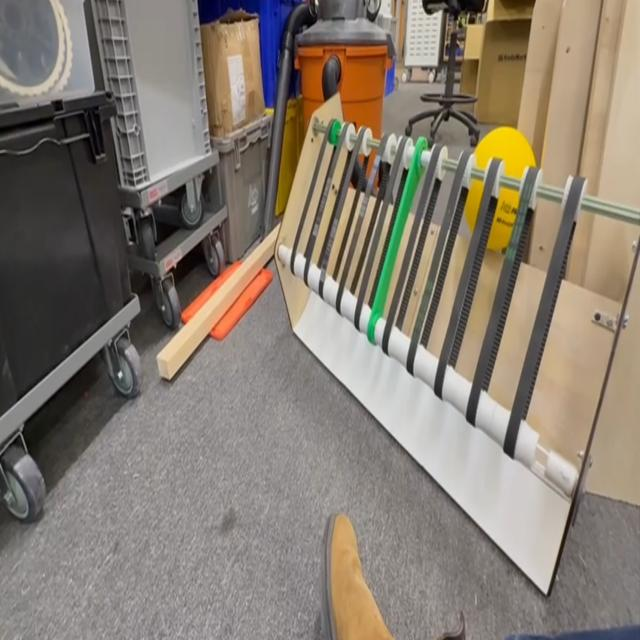Fuel: (463, 127, 538, 246)
